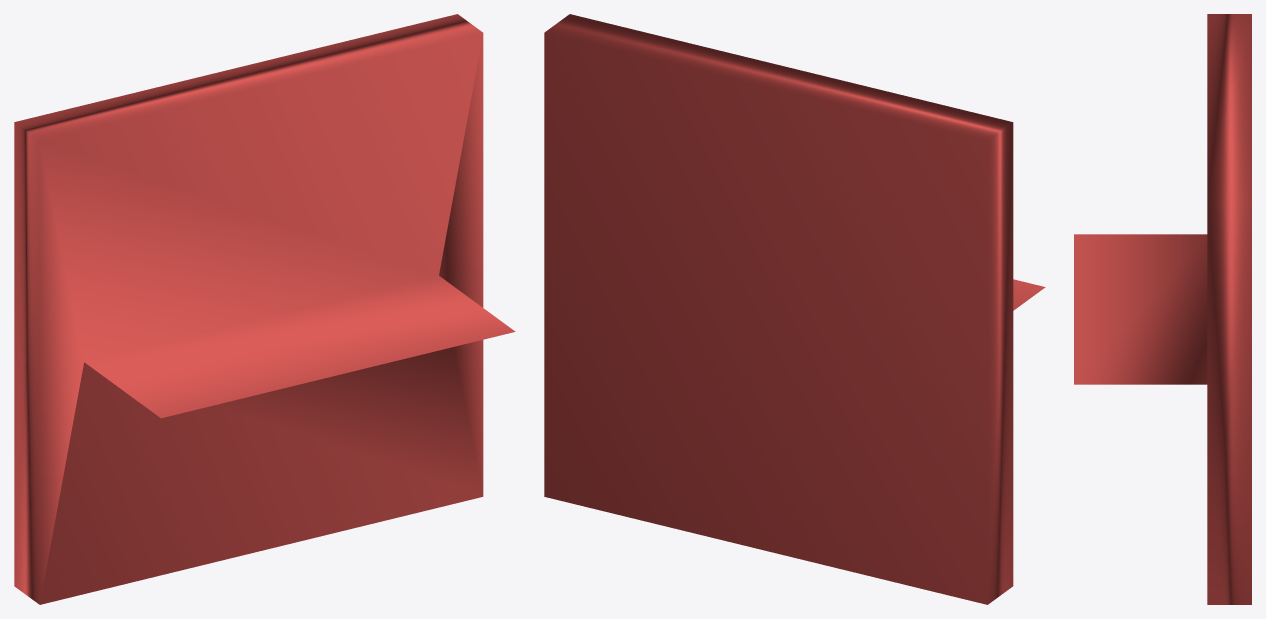
Rendered from expected.gltf.
3 renders of one model, left to right at view 1: azimuth 30°, elevation 25°; view 2: azimuth 150°, elevation 25°; view 3: azimuth 270°, elevation 25°, orthographic. The views are drawn at different scales.
Size of the model in its own units: 50 by 50 by 20.
